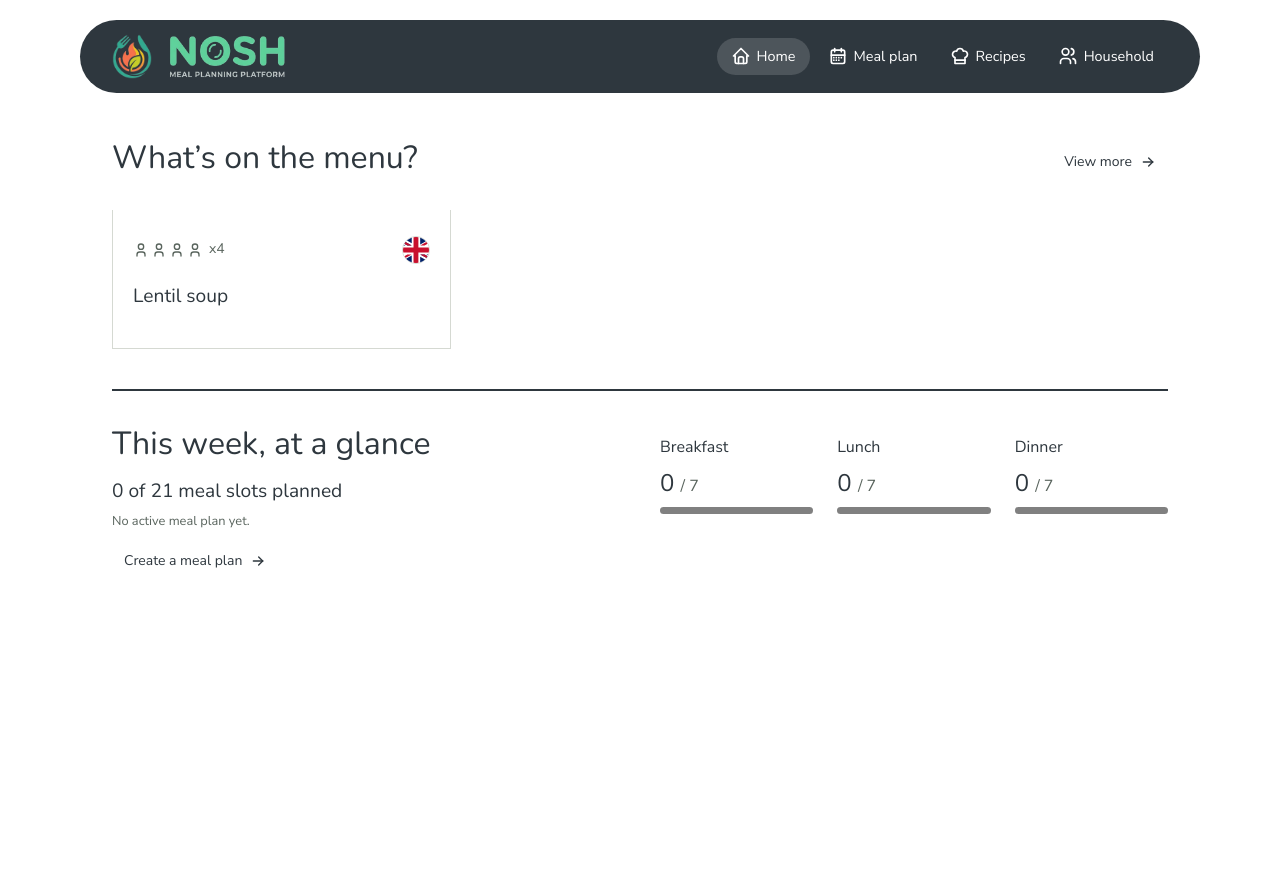
Test: shows real summaries and navigates to the explorer and household settings
Expected: the link "Lentil soup" is shown, x1=133 y1=283 x2=228 y2=309
Step 1. Click the link "Meal plan" → (872, 56), box x1=828 y1=46 x2=918 y2=66
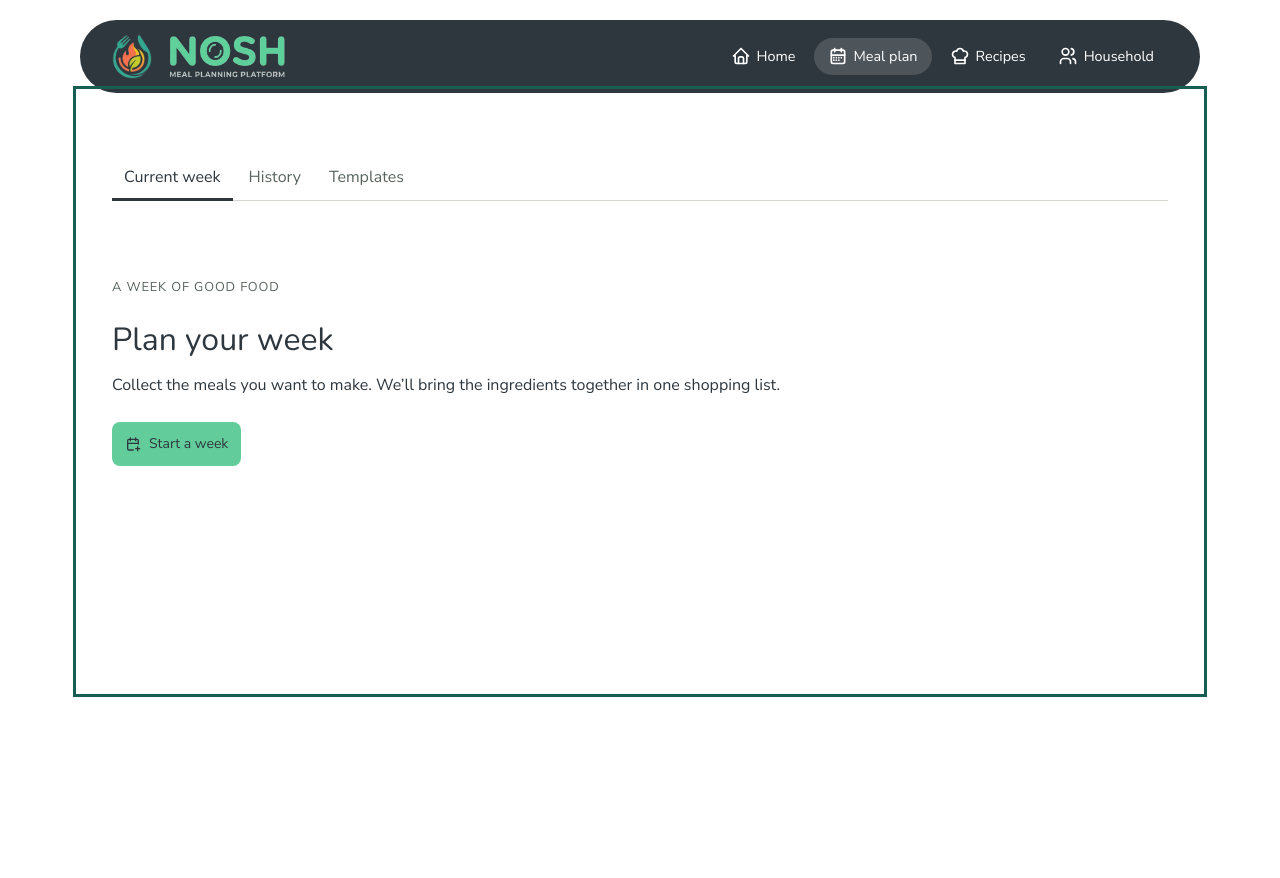
Expected: the heading "Plan your week" is shown, x1=112 y1=318 x2=334 y2=361
Expected: the button "Start a week" is shown, x1=112 y1=422 x2=241 y2=466
Step 2. Click the link "Recipes" → (988, 56), box x1=950 y1=46 x2=1026 y2=66
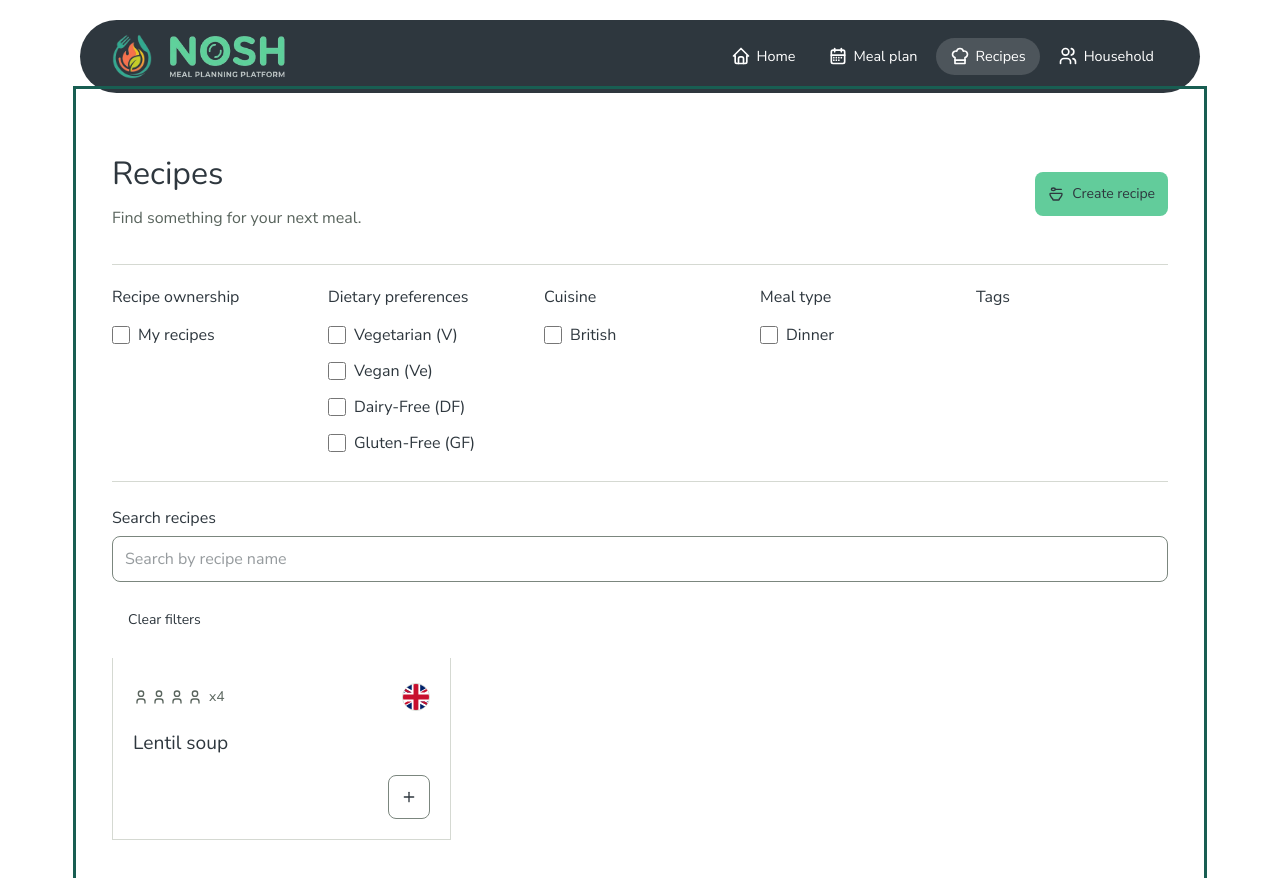
Expected: the heading "Recipes" is shown, x1=112 y1=152 x2=223 y2=195
Step 3. Click the link "Household" → (1106, 56), box x1=1058 y1=46 x2=1154 y2=66
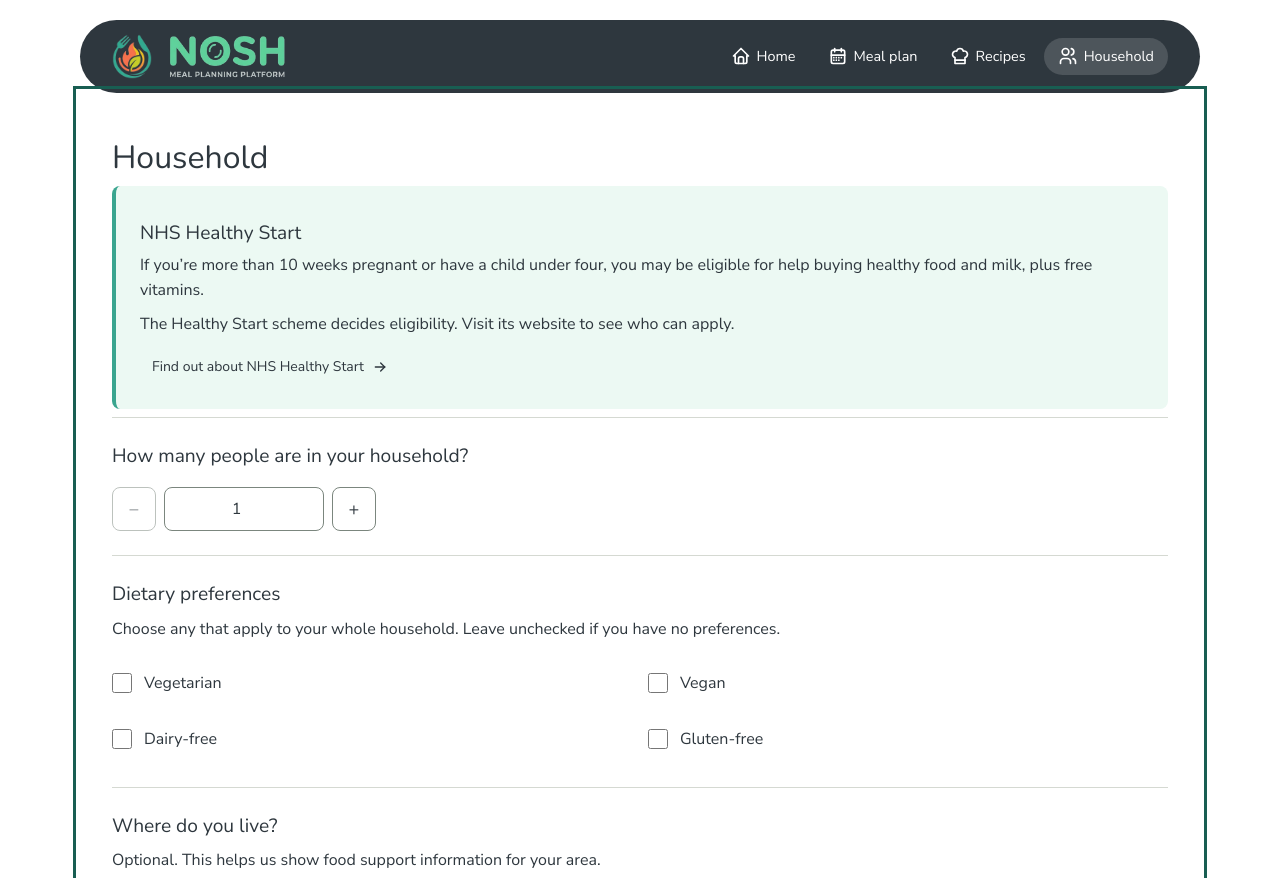
Expected: the heading "Household" is shown, x1=112 y1=136 x2=268 y2=179
Expected: the number field holds "1", x1=164 y1=487 x2=324 y2=531
